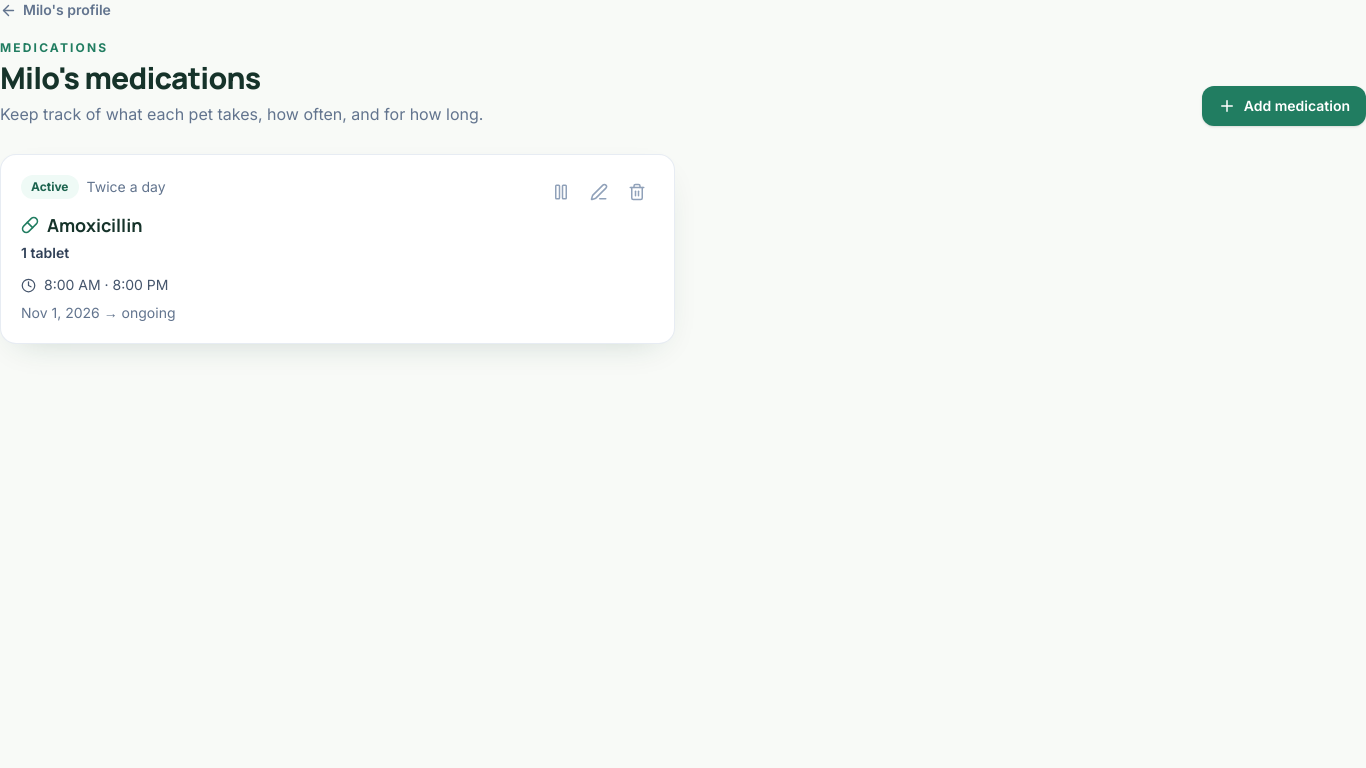
care pages › lists medications and validates the add form
expect the text "Amoxicillin" is shown: met, box 47,211 -> 142,239
expect the text "1 tablet" is shown: met, box 21,244 -> 69,261
What coordinates should you click on to do the following:
click the button "Add medication"
I would click on:
 (1284, 106)
Its box is 1202,86 -> 1365,126.
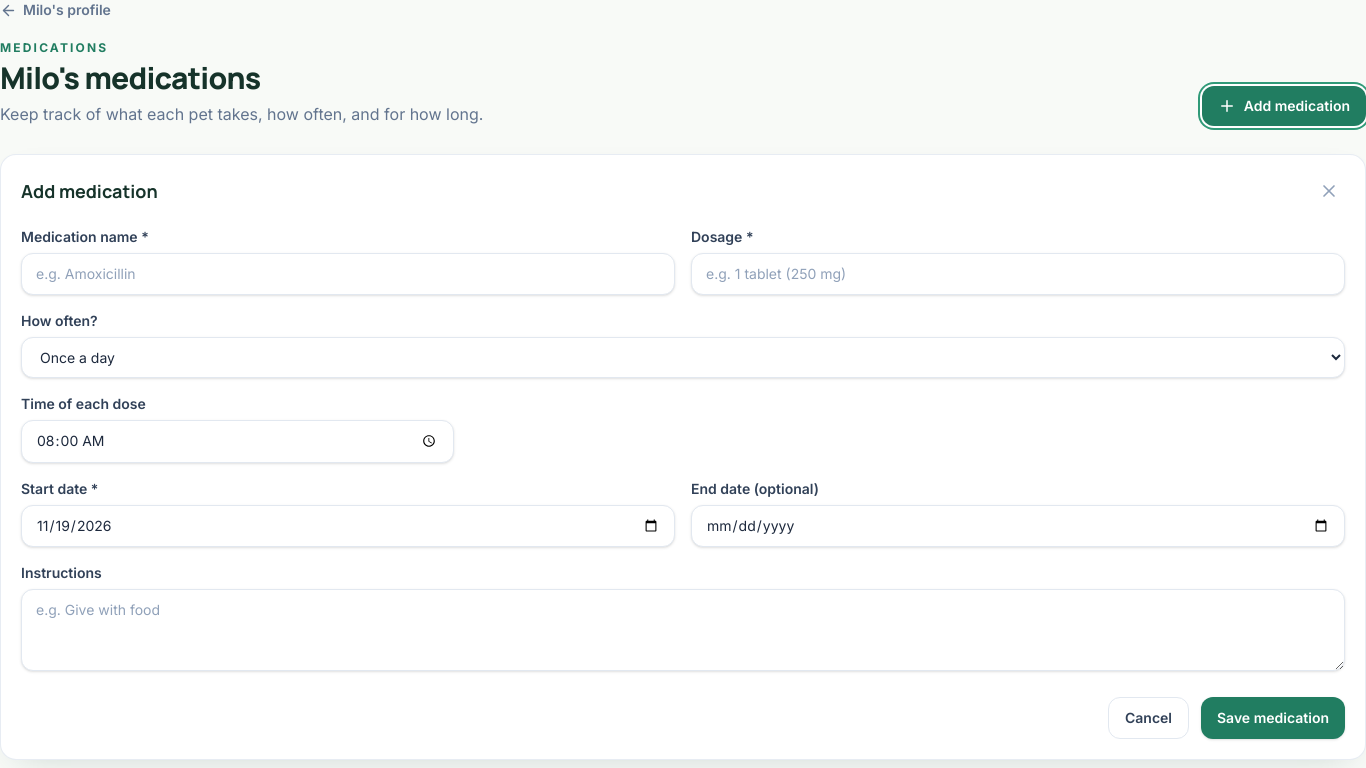
What coordinates should you click on to do the following:
click the button "Save medication"
I would click on:
 (1273, 718)
Its box is 1201,697 -> 1345,739.
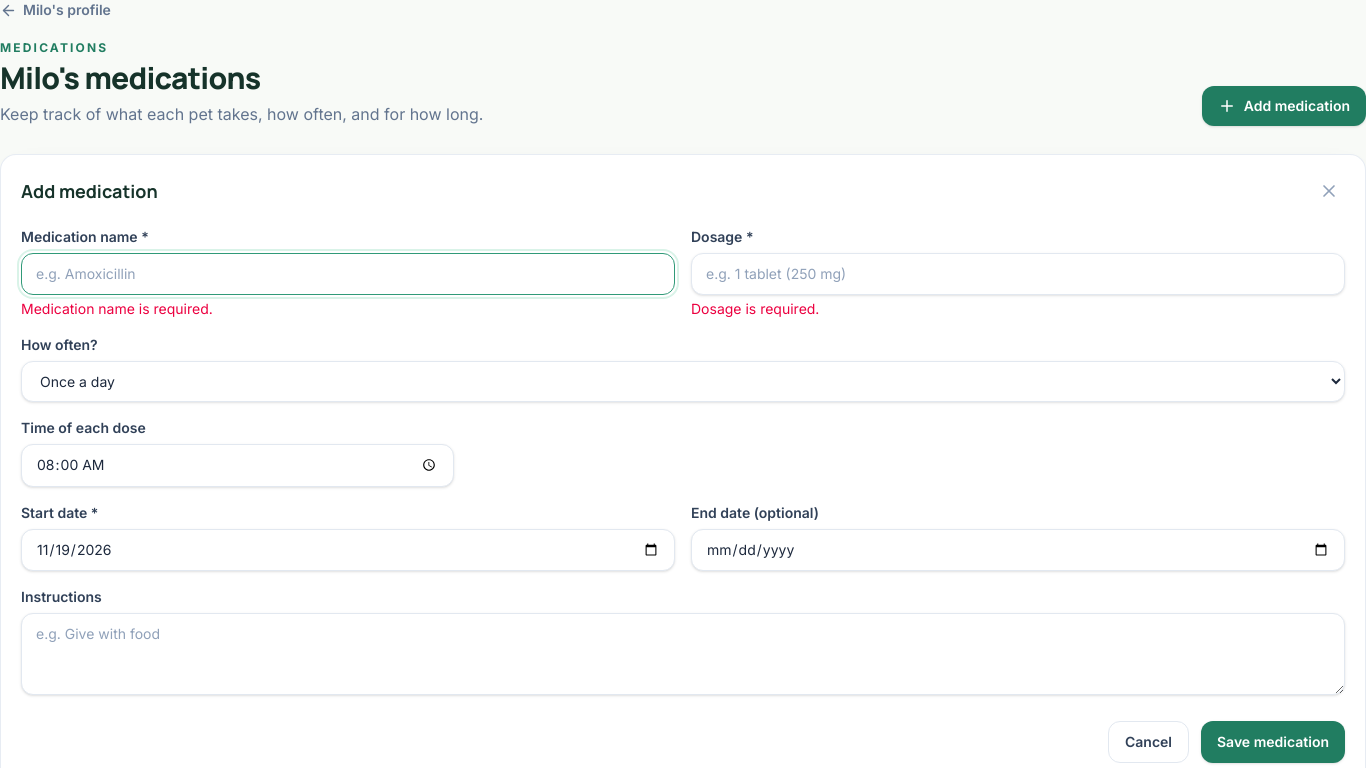
expect the text "Medication name is required." is shown: met, box 21,300 -> 213,317
expect the text "Dosage is required." is shown: met, box 691,300 -> 819,317
